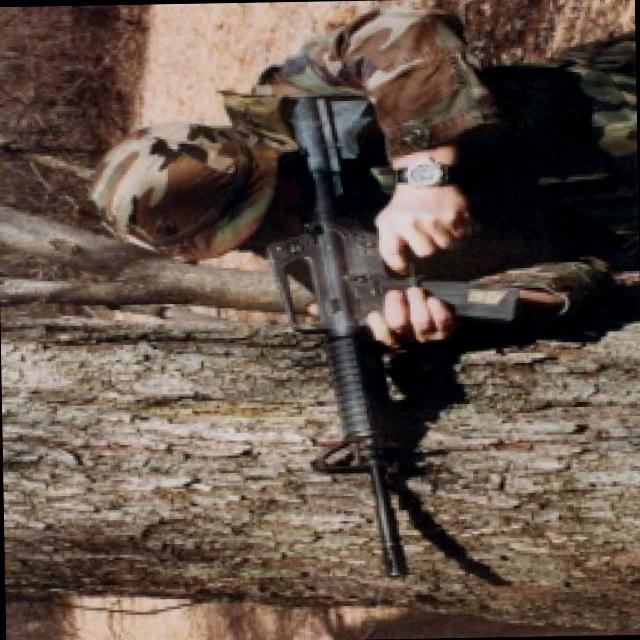long weapon: (253, 90, 464, 608)
